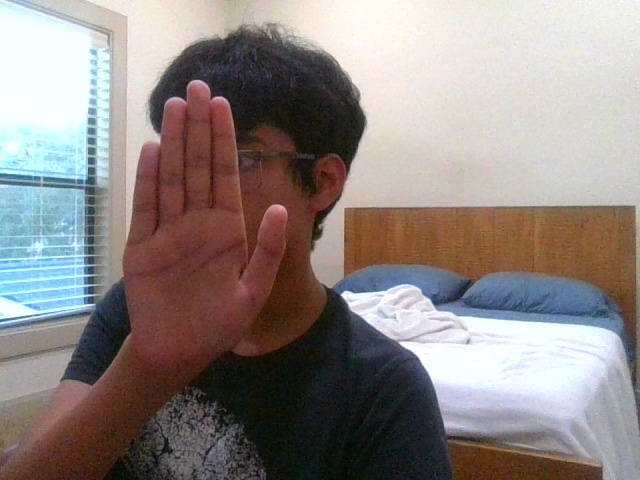hello: (124, 80, 287, 360)
